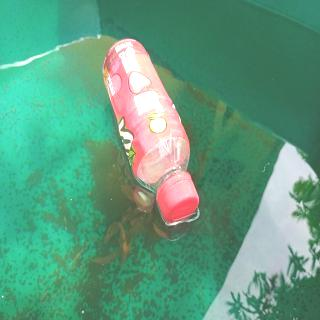bottle: (102, 37, 200, 224)
